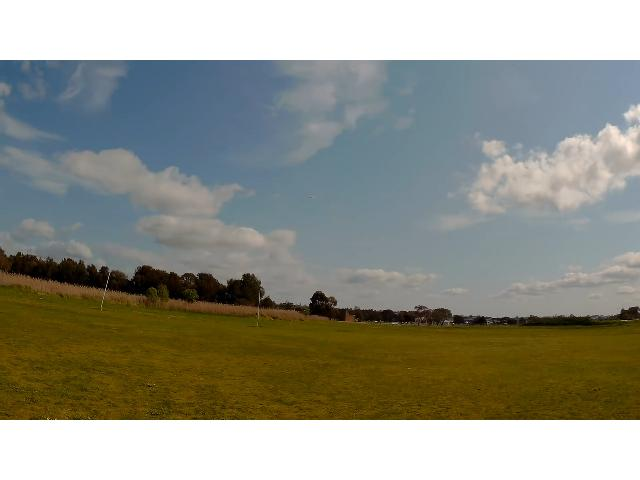Anti-Drone: (296, 187, 326, 205)
